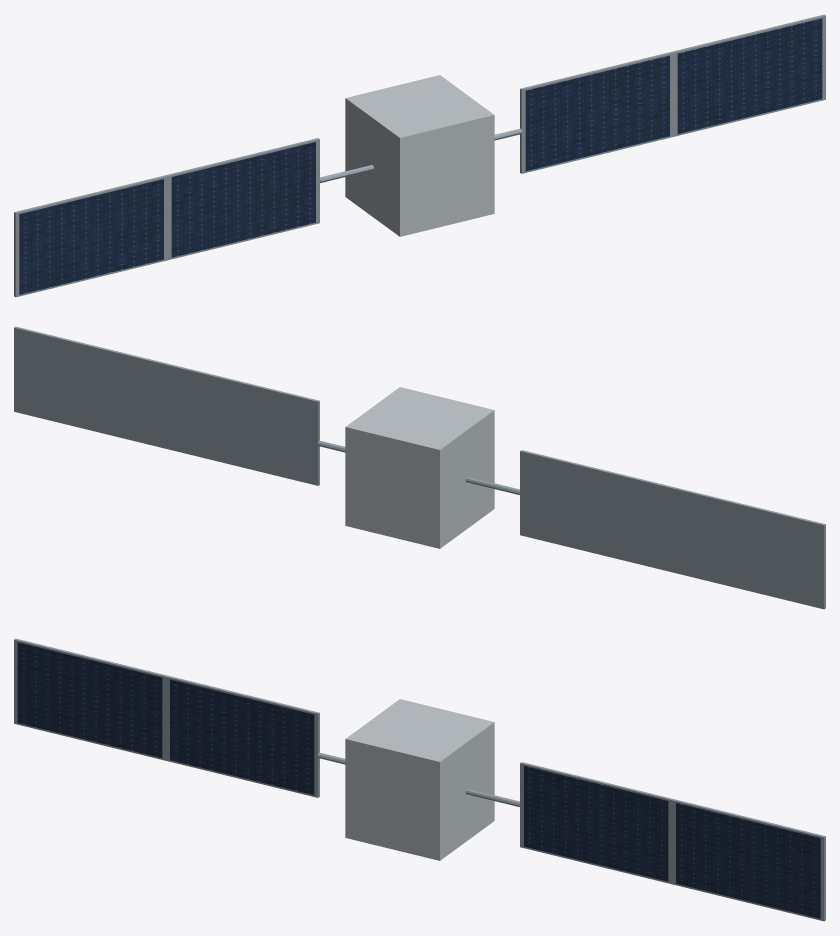
The model's file is ref-prima-31598.glb.
3 views of the same model, one above another, from view 1: azimuth 30°, elevation 25°; view 2: azimuth 150°, elevation 25°; view 3: azimuth 330°, elevation 25° (orthographic).
Parts seen in each view (by area): view 1: Photovoltaic laminates (×4), Spacecraft body, Array frame (×4); view 2: Array frame (×4), Spacecraft body; view 3: Photovoltaic laminates (×4), Spacecraft body, Array frame (×4).
Part boxes in pixels (left/top/right/bottom): Photovoltaic laminates (×4): left=19, top=18, right=822, bottom=294; Spacecraft body: left=345, top=75, right=494, bottom=236; Array frame (×4): left=14, top=14, right=825, bottom=297; Array frame (×4): left=14, top=326, right=825, bottom=609; Spacecraft body: left=345, top=387, right=494, bottom=548; Photovoltaic laminates (×4): left=17, top=642, right=820, bottom=918; Spacecraft body: left=345, top=699, right=494, bottom=860; Array frame (×4): left=14, top=638, right=825, bottom=921.
Bounding box in the file's own units: 12 × 1.4 × 1.4.
3 materials, 1 textured.
